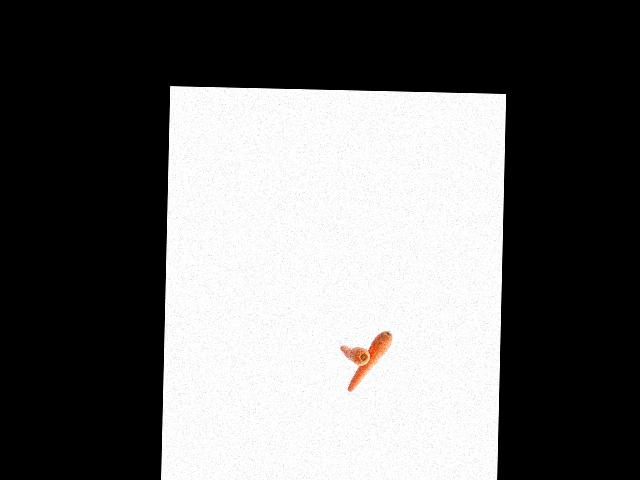carrot: (338, 341, 372, 366)
